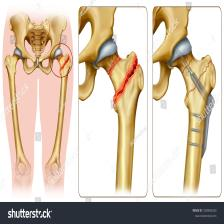segmental-fracture: (0, 4, 218, 198)
